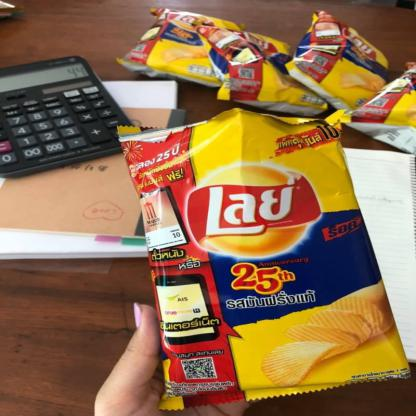potatochip: (95, 99, 416, 416), (177, 10, 335, 120), (270, 4, 410, 119), (108, 0, 280, 92), (324, 36, 415, 168)
